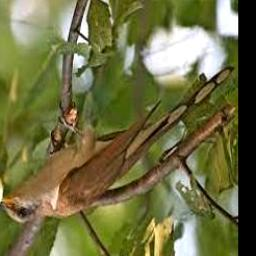Cuckoo: (0, 66, 235, 223)
